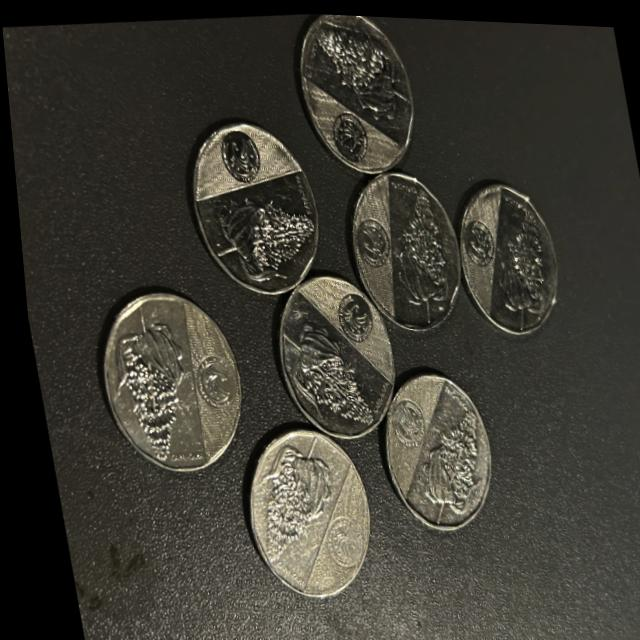10_New_Back: (233, 431, 378, 593), (98, 306, 231, 463), (446, 185, 558, 336), (273, 281, 388, 422), (195, 130, 308, 268), (345, 176, 449, 324), (378, 377, 480, 518), (308, 11, 404, 159)
